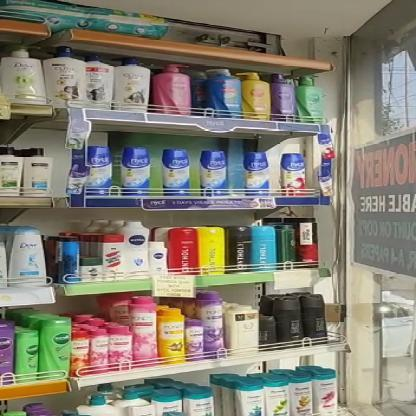Nycil Prickly Heat Powder: (122, 146, 152, 198), (160, 150, 190, 198), (86, 144, 111, 196), (200, 149, 226, 197), (244, 151, 270, 195), (280, 153, 306, 195)
